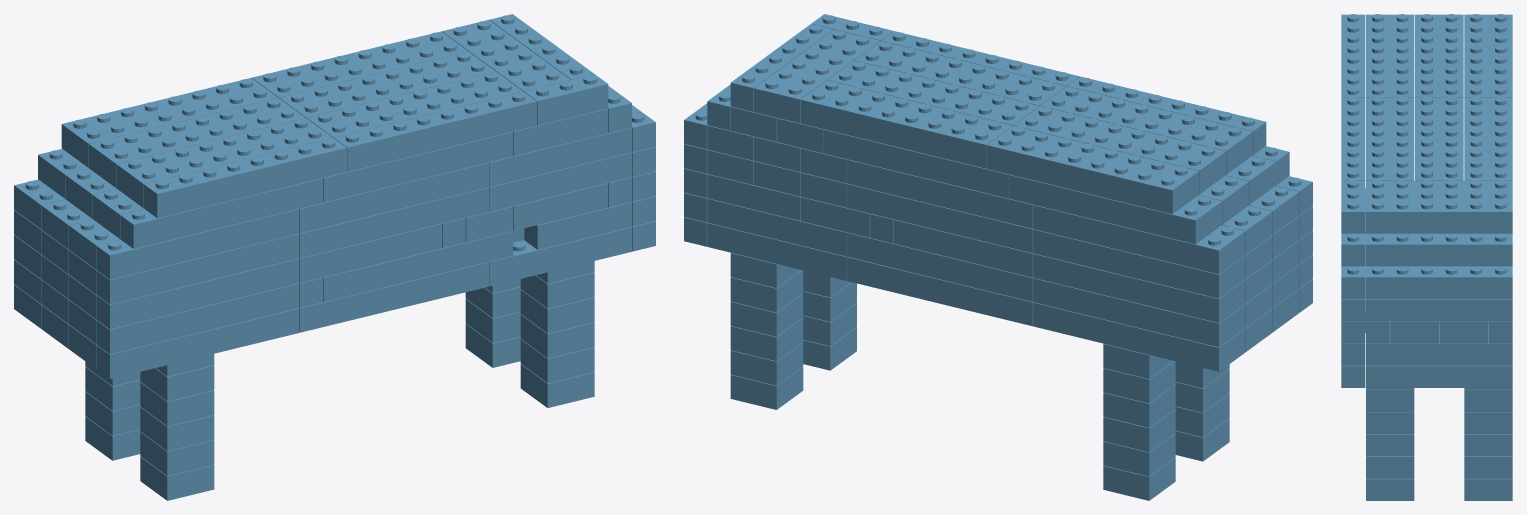
The model's file is 194_piano_L4.glb.
3 views of the same model, side by side, from view 1: azimuth 30°, elevation 25°; view 2: azimuth 150°, elevation 25°; view 3: azimuth 270°, elevation 25° (orthographic). The views are drawn at different scales.
Bounding box in the file's own units: 22.98 × 13.13 × 6.98.
